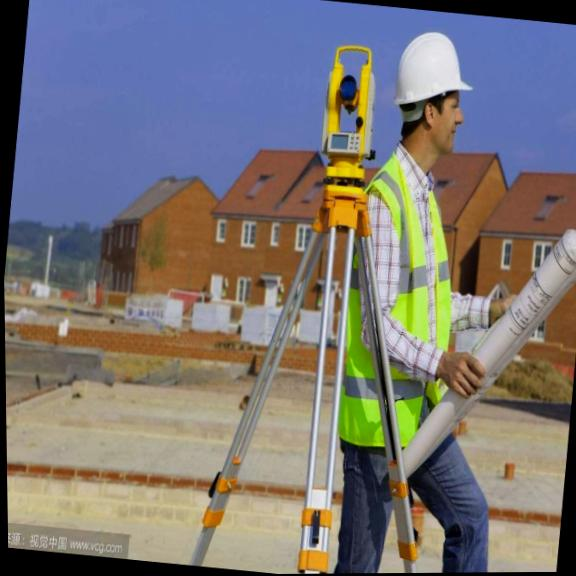safety_vest: (325, 144, 476, 467)
